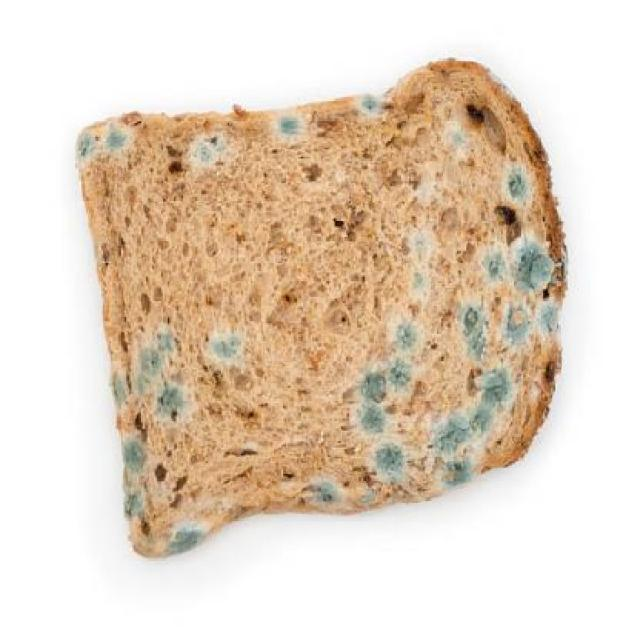mold_bread: (105, 325, 189, 426), (344, 352, 416, 431), (472, 237, 557, 293), (425, 417, 479, 487), (69, 112, 133, 163), (467, 367, 520, 428), (495, 300, 566, 343), (453, 299, 489, 363), (403, 225, 433, 297), (500, 159, 536, 213), (162, 514, 208, 556), (204, 324, 249, 365), (189, 129, 229, 173), (385, 318, 427, 356), (299, 474, 342, 509), (372, 439, 410, 478), (272, 111, 310, 144), (116, 437, 151, 471), (118, 482, 147, 519), (354, 95, 387, 121), (444, 122, 468, 154), (355, 485, 382, 509)
